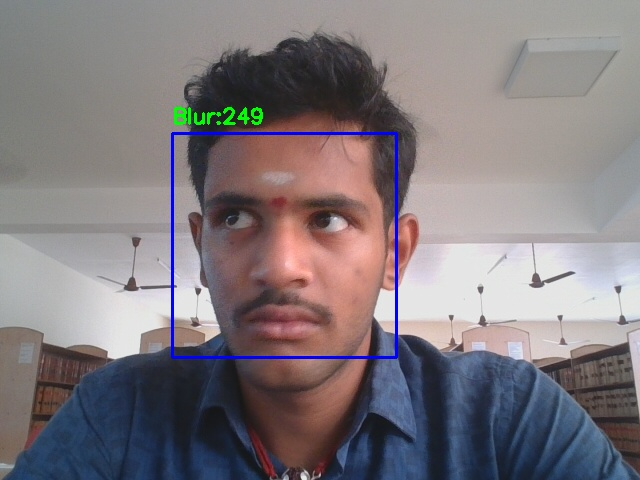real: (172, 133, 396, 357)
